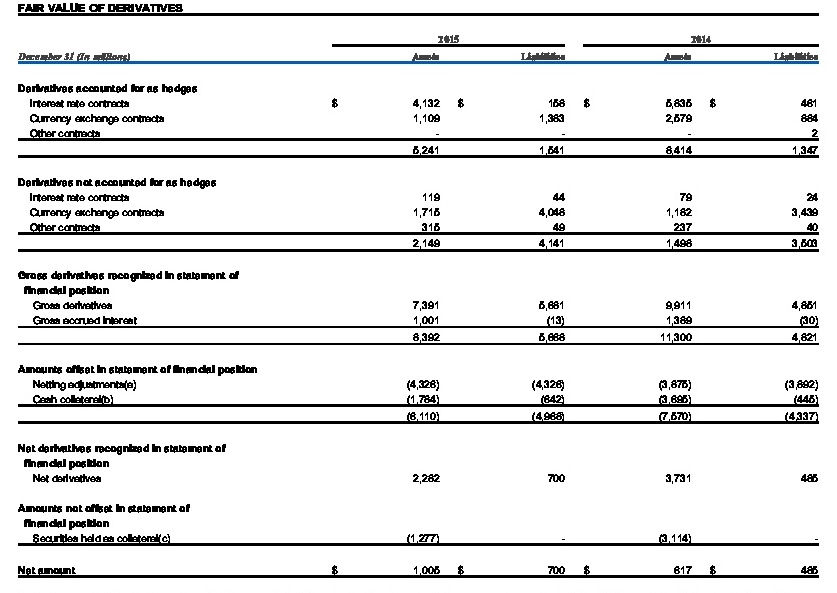table: (0, 0, 837, 593)
